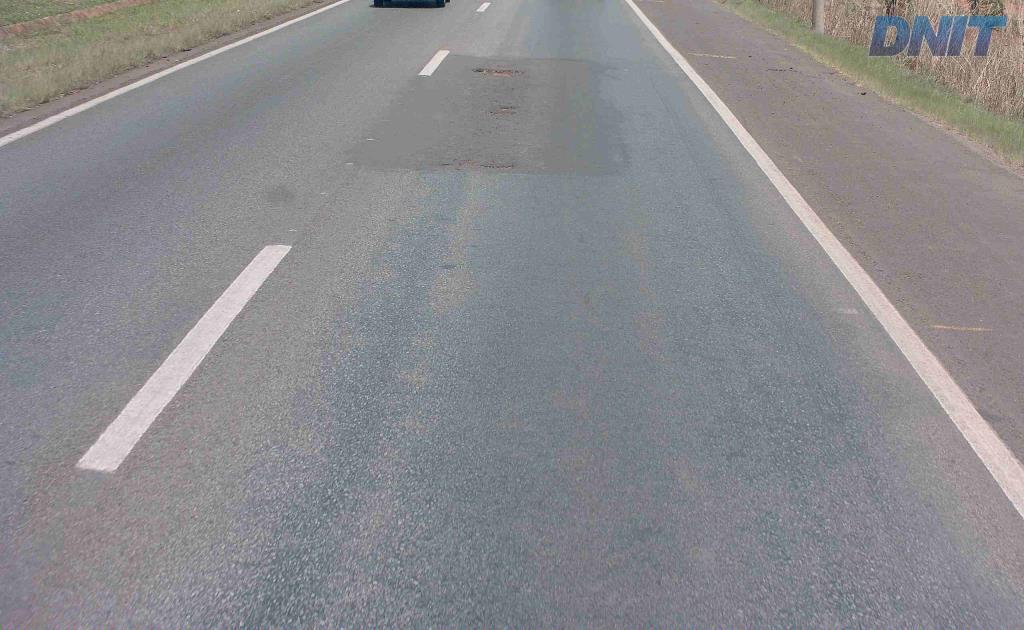pothole: (464, 65, 533, 79), (487, 96, 525, 114)
